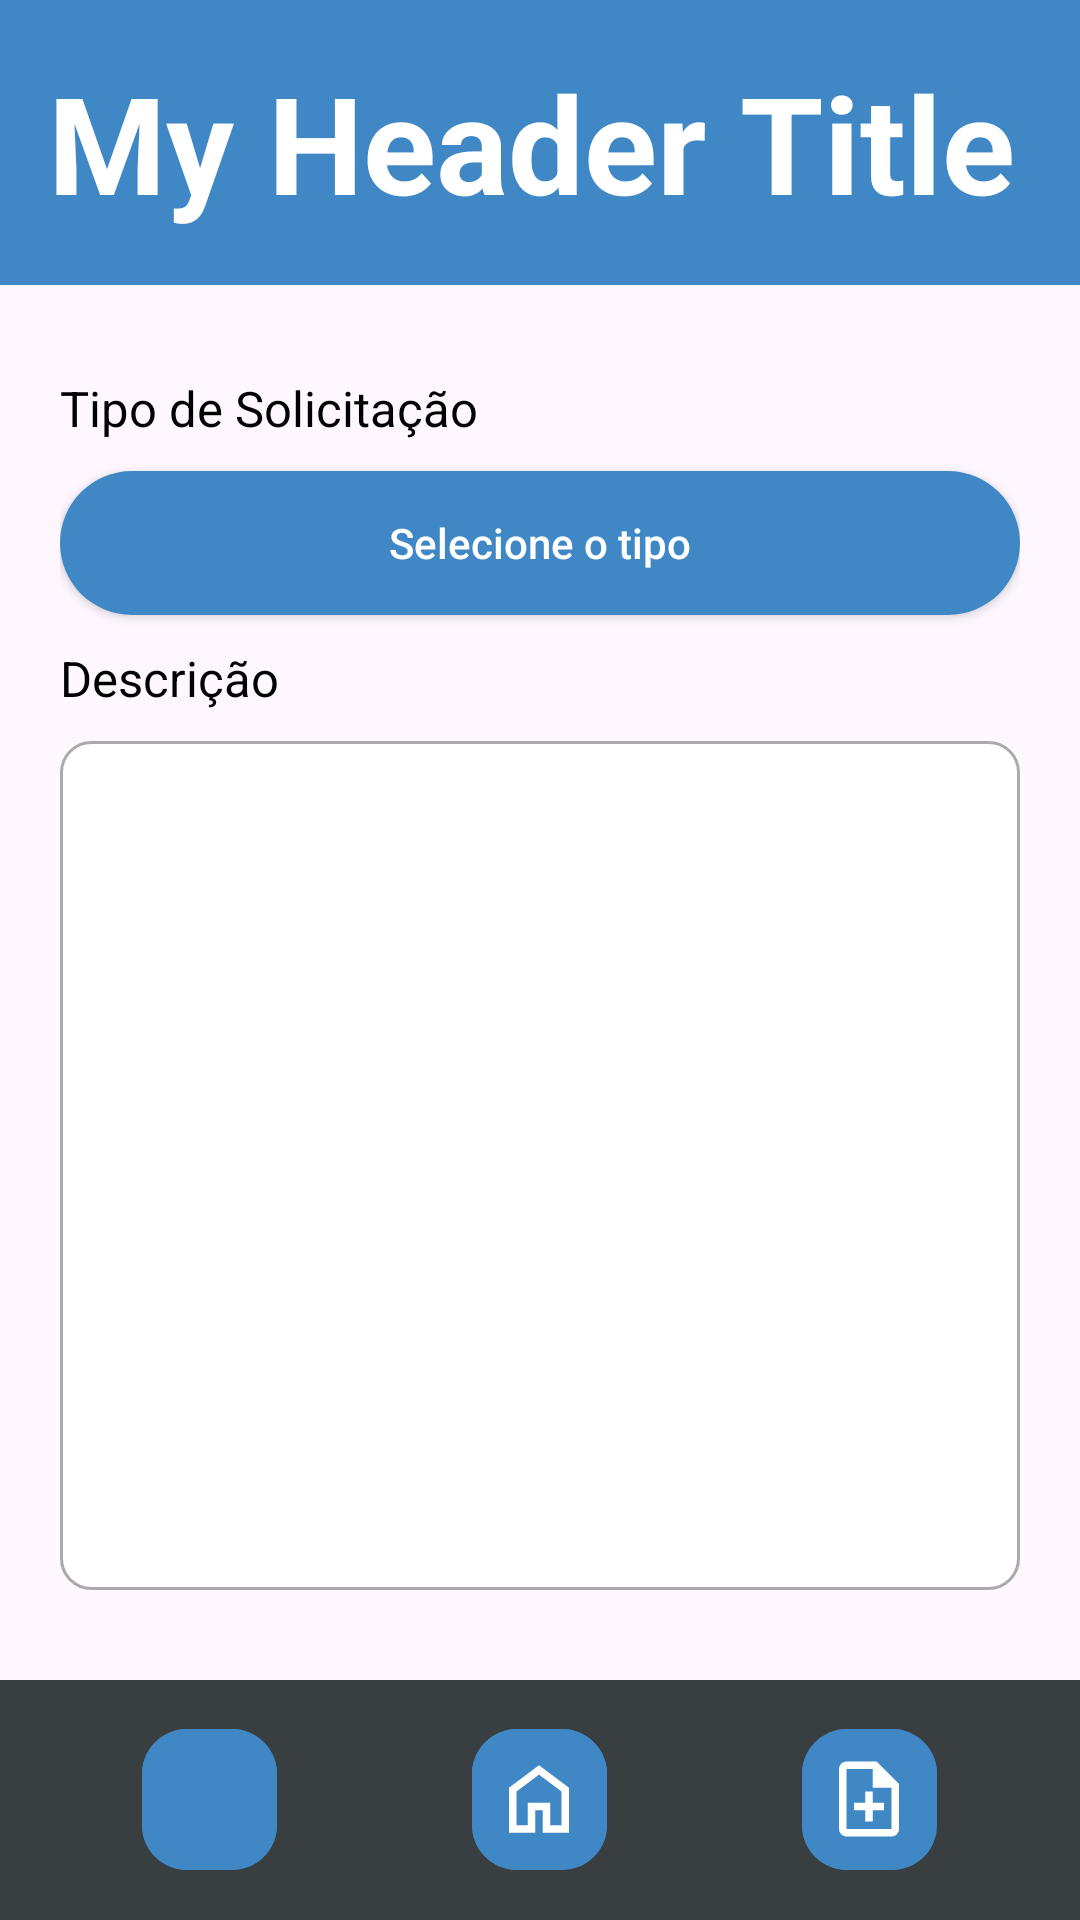

Point at icon controls on the screen. Image size 1080 × 1920, points as (x,y).
home: (539,1799)
request: (869,1799)
